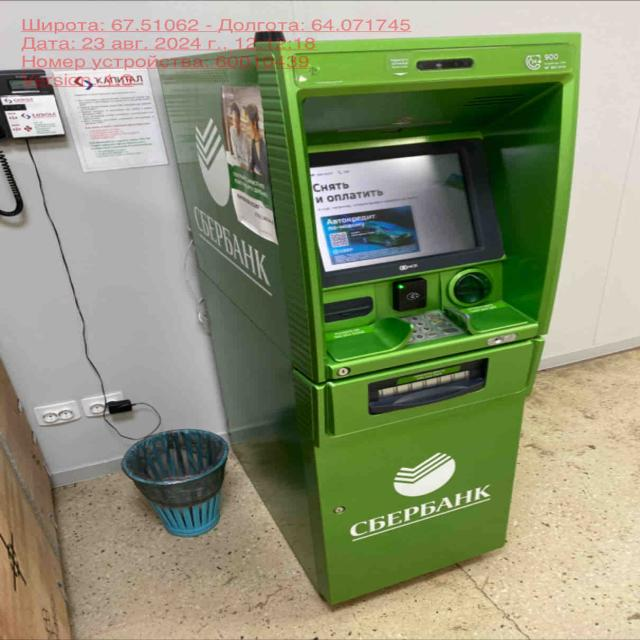bank: (146, 27, 584, 614)
